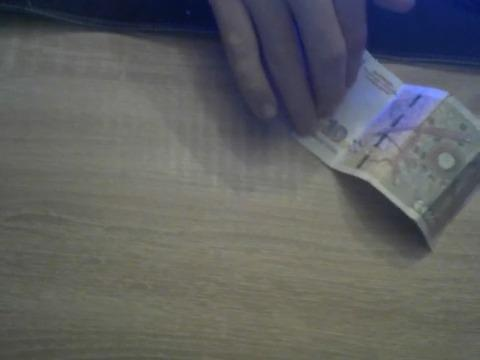10leva: (291, 51, 480, 251)
